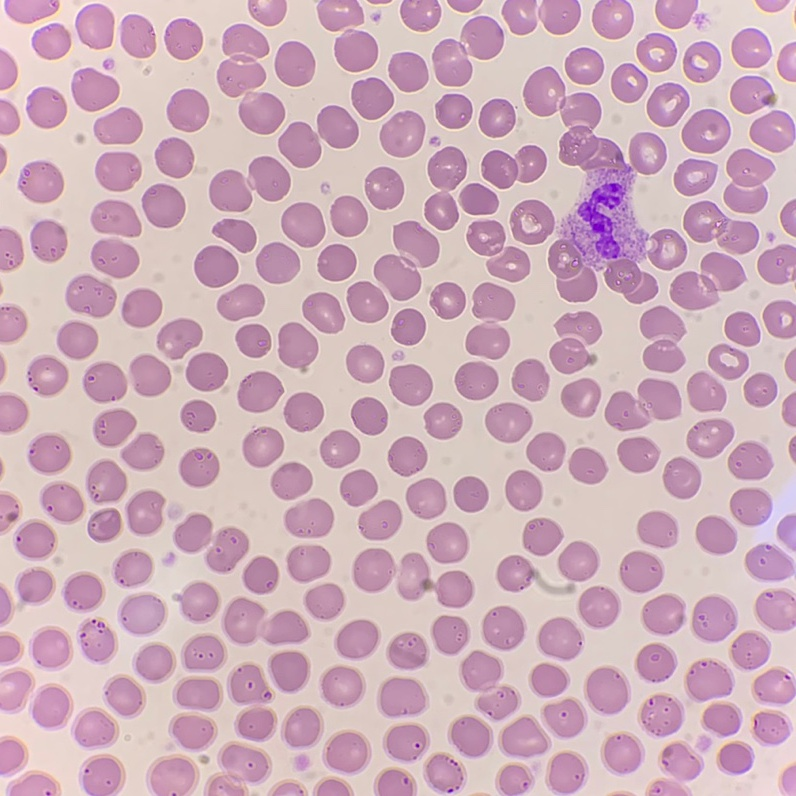RBC: (549, 126, 686, 302), (671, 253, 743, 309), (461, 651, 519, 720), (605, 379, 680, 430), (684, 201, 757, 252), (217, 24, 267, 96), (724, 149, 773, 212), (482, 146, 545, 187), (692, 595, 737, 641), (393, 221, 438, 266), (374, 255, 420, 299), (682, 109, 729, 152), (66, 275, 115, 316), (71, 68, 118, 110), (380, 112, 424, 156), (501, 717, 549, 757), (206, 527, 248, 572), (222, 598, 263, 644), (524, 68, 564, 115), (686, 661, 733, 701), (281, 203, 324, 246), (279, 122, 320, 167), (142, 184, 184, 227), (511, 200, 553, 243), (448, 716, 492, 757), (239, 93, 284, 133), (587, 668, 627, 713), (378, 678, 424, 717), (91, 239, 138, 277), (285, 499, 332, 537), (91, 200, 140, 236), (647, 83, 688, 126), (248, 157, 289, 200), (19, 161, 62, 202), (353, 548, 394, 591), (482, 606, 523, 649), (750, 111, 794, 151), (486, 403, 531, 442), (433, 39, 471, 85), (687, 419, 733, 457), (335, 30, 377, 71), (167, 89, 208, 131), (620, 551, 662, 592), (538, 618, 580, 659), (256, 243, 299, 283), (194, 246, 237, 286), (83, 362, 126, 402), (238, 371, 281, 411), (86, 460, 126, 503), (275, 41, 314, 85), (157, 319, 201, 358), (95, 152, 140, 190), (745, 544, 792, 580), (352, 78, 393, 119), (209, 170, 250, 211), (390, 365, 432, 405), (28, 433, 70, 473), (642, 594, 684, 634), (227, 664, 269, 704), (641, 695, 683, 735), (121, 595, 164, 634), (75, 4, 113, 48), (279, 323, 317, 367), (126, 490, 163, 535), (94, 108, 141, 143), (463, 17, 503, 58), (317, 106, 357, 147), (130, 355, 170, 396), (578, 587, 619, 627), (755, 589, 795, 630), (269, 651, 309, 692), (359, 500, 401, 539), (728, 441, 771, 479), (383, 725, 428, 761), (222, 745, 267, 781), (558, 541, 598, 581), (41, 484, 82, 523), (151, 758, 194, 795), (731, 76, 775, 112), (218, 284, 263, 319), (550, 338, 595, 373), (173, 678, 222, 710), (27, 87, 66, 127), (303, 293, 343, 332), (243, 427, 283, 466), (427, 523, 467, 562), (327, 733, 367, 772), (428, 147, 466, 188), (365, 167, 403, 208), (337, 620, 378, 658), (322, 667, 363, 705), (455, 362, 497, 399), (544, 700, 586, 737), (260, 611, 307, 644), (348, 282, 387, 321), (28, 356, 67, 395), (179, 448, 218, 487), (406, 479, 445, 518), (604, 734, 643, 773), (696, 516, 736, 554), (730, 631, 770, 669), (186, 353, 227, 390), (94, 409, 135, 446), (663, 457, 700, 498), (83, 758, 124, 795), (287, 546, 330, 581), (593, 0, 632, 38), (122, 289, 161, 327), (16, 520, 54, 559), (181, 582, 219, 621), (165, 19, 202, 59), (271, 462, 311, 499), (730, 488, 770, 525), (636, 644, 676, 681), (662, 743, 702, 780), (30, 220, 66, 261), (512, 359, 548, 400), (122, 433, 163, 469), (549, 752, 585, 793), (400, 553, 432, 599), (674, 160, 716, 195), (181, 635, 223, 670), (169, 716, 212, 750), (732, 29, 770, 67), (637, 33, 675, 71), (389, 53, 427, 91), (687, 372, 725, 410), (388, 437, 426, 475), (64, 572, 102, 610), (431, 616, 469, 654), (683, 42, 720, 81), (155, 138, 192, 177), (561, 379, 600, 416), (284, 393, 323, 430), (320, 430, 359, 467), (523, 518, 562, 555), (135, 643, 172, 682), (75, 711, 114, 748), (474, 283, 514, 319), (57, 322, 97, 358), (637, 511, 677, 547), (387, 633, 427, 669), (497, 556, 538, 591), (754, 669, 795, 704), (121, 15, 155, 57), (758, 245, 795, 283), (174, 514, 211, 552), (331, 196, 366, 236), (618, 437, 658, 472), (506, 470, 541, 510), (106, 677, 141, 717), (488, 247, 529, 281), (527, 433, 564, 470), (435, 571, 473, 607), (426, 754, 462, 792), (318, 0, 363, 30), (466, 326, 508, 358), (640, 306, 683, 337), (318, 244, 355, 280), (347, 345, 383, 382), (114, 550, 151, 586), (305, 584, 343, 619), (33, 688, 68, 726), (708, 344, 747, 378), (285, 708, 319, 747), (539, 0, 579, 33), (556, 312, 600, 342), (81, 621, 114, 661), (214, 219, 255, 251), (351, 398, 387, 434), (33, 24, 70, 59), (565, 48, 602, 83), (611, 64, 646, 101), (479, 99, 514, 136), (33, 630, 68, 667), (425, 403, 461, 438), (569, 448, 605, 483), (340, 470, 376, 505), (235, 708, 273, 741), (560, 93, 600, 124), (643, 340, 683, 371), (243, 557, 277, 593), (467, 221, 504, 254), (436, 94, 471, 128), (16, 570, 52, 603), (425, 192, 457, 229), (531, 664, 568, 696), (703, 704, 740, 736), (401, 0, 440, 30), (5, 0, 58, 22), (454, 477, 488, 511), (431, 283, 464, 318), (392, 309, 425, 344), (725, 312, 759, 345), (236, 324, 270, 357), (656, 0, 696, 28), (753, 711, 788, 743), (764, 301, 795, 337), (460, 184, 497, 214), (0, 672, 29, 709), (496, 765, 533, 794), (374, 769, 415, 795), (503, 0, 535, 33), (744, 373, 776, 406), (181, 400, 214, 432), (88, 508, 120, 541), (717, 742, 751, 773), (6, 774, 55, 795), (0, 395, 27, 432), (248, 0, 285, 25), (0, 228, 22, 270), (0, 307, 26, 341), (0, 740, 24, 774), (778, 43, 795, 81), (211, 775, 243, 795), (0, 494, 18, 529), (0, 51, 16, 89), (0, 100, 18, 133), (0, 635, 19, 663), (649, 781, 685, 795), (781, 200, 795, 235), (777, 514, 795, 540), (317, 780, 348, 795), (783, 394, 795, 425), (782, 766, 795, 793), (0, 589, 10, 623), (449, 0, 479, 11), (758, 0, 786, 11), (785, 351, 795, 379), (282, 783, 297, 792), (169, 506, 179, 518), (789, 439, 795, 457), (0, 148, 5, 167), (700, 737, 709, 747), (297, 757, 306, 766), (105, 59, 113, 67), (0, 362, 4, 373)
